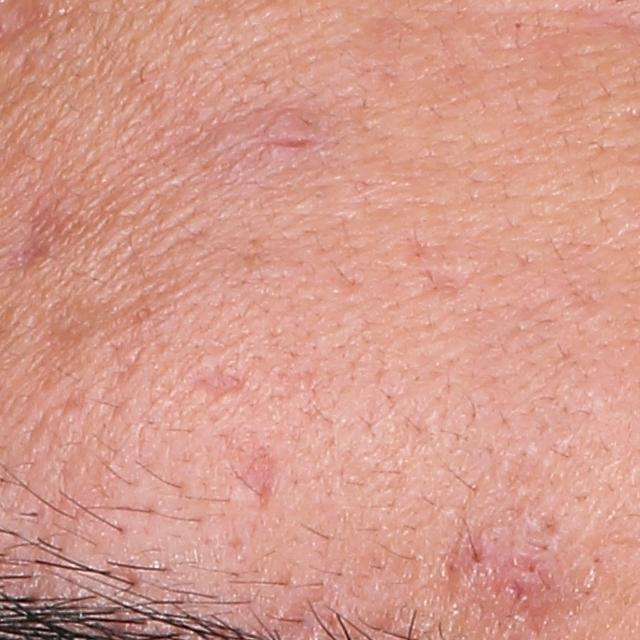atrophic_scar: (207, 91, 364, 194), (3, 199, 91, 285), (35, 284, 123, 349), (401, 236, 480, 303), (239, 444, 283, 512), (185, 367, 247, 410)
